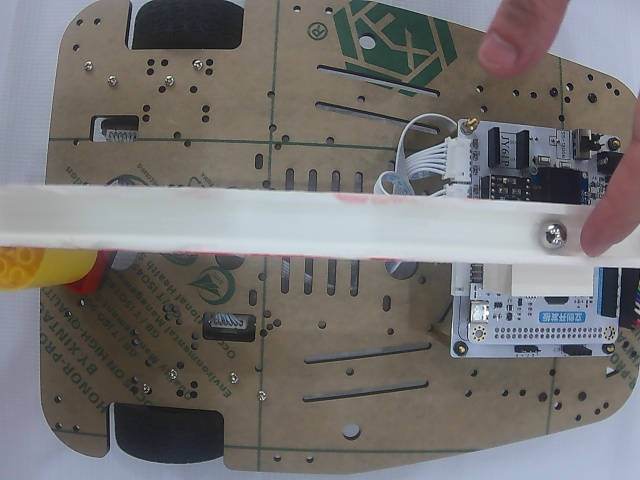steelball: (541, 220, 566, 249)
